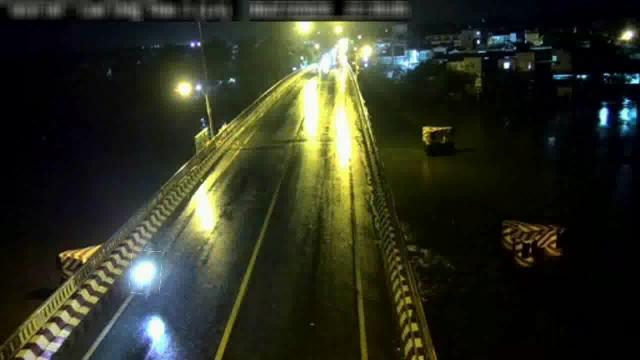Bike: (130, 250, 162, 294)
